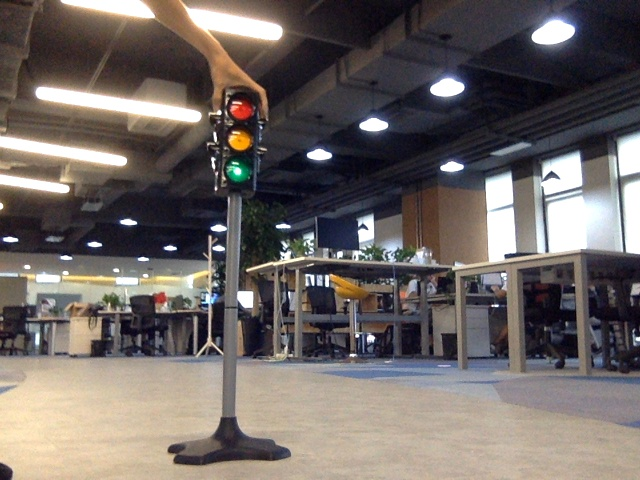green: (227, 99, 252, 187)
